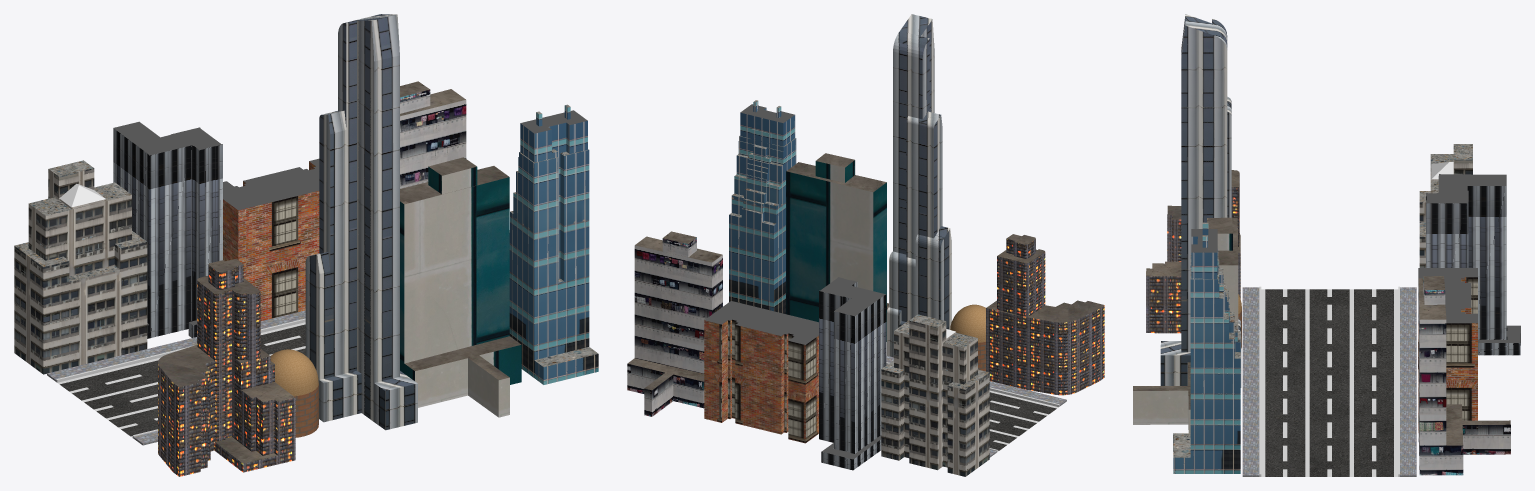
File: budovy_cesta.fbx
3 views of the same model, side by side, from view 1: azimuth 30°, elevation 25°; view 2: azimuth 150°, elevation 25°; view 3: azimuth 270°, elevation 25° (orthographic). The views are drawn at different scales.
Visible parts, largest first — view 1: One57; view 2: One57; view 3: One57.
Boxes of the visible parts, x1,y1,x2,y2 form: One57: (14, 14, 598, 476); One57: (627, 14, 1104, 476); One57: (1133, 14, 1520, 476).
Bounding box in the file's own units: 4189 × 4856 × 4363.
